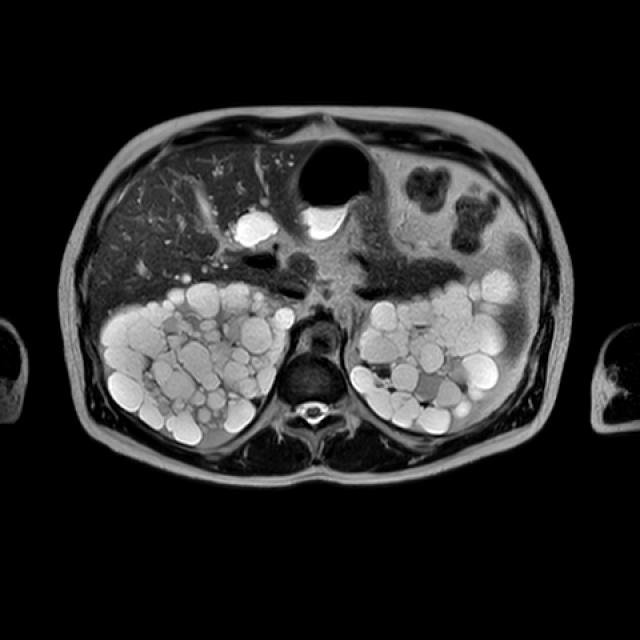sag: (98, 279, 298, 446)
sol: (348, 264, 523, 437)
